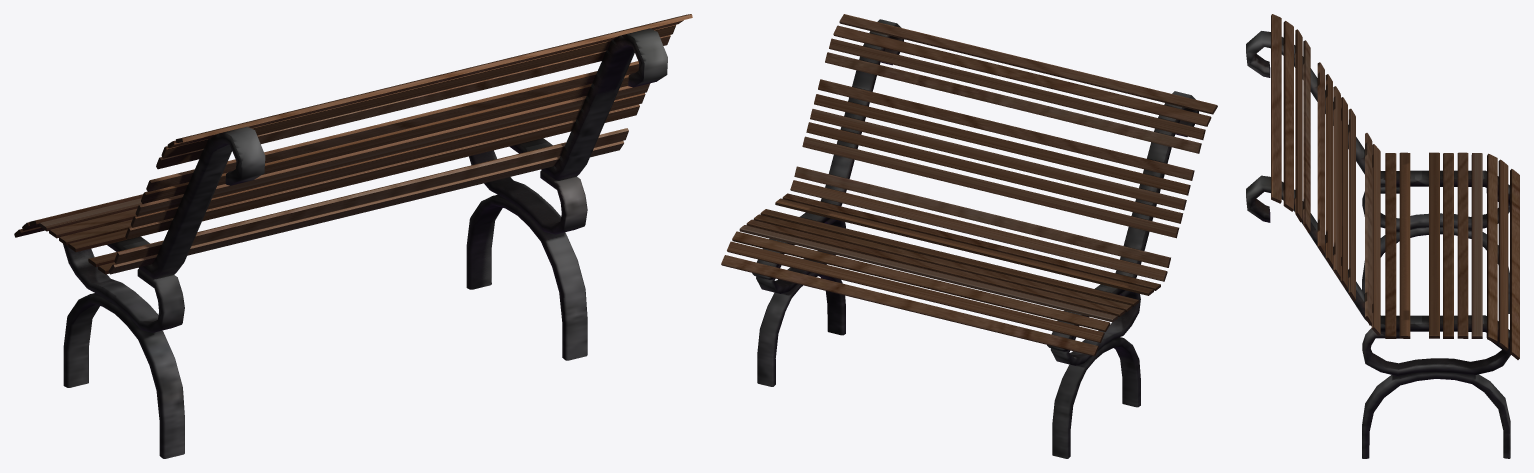
Rendered from bancocemiterio-marcos.fbx.
3 views of the same model, side by side, from view 1: azimuth 30°, elevation 25°; view 2: azimuth 150°, elevation 25°; view 3: azimuth 270°, elevation 25° (orthographic). The views are drawn at different scales.
Parts seen in each view (by area): view 1: Cube.000; view 2: Cube.000; view 3: Cube.000.
Boxes of the visible parts, x1,y1,x2,y2 form: Cube.000: [14, 14, 692, 458]; Cube.000: [721, 14, 1217, 458]; Cube.000: [1246, 14, 1519, 458].
Size of the model in its own units: 180 by 127 by 114.
